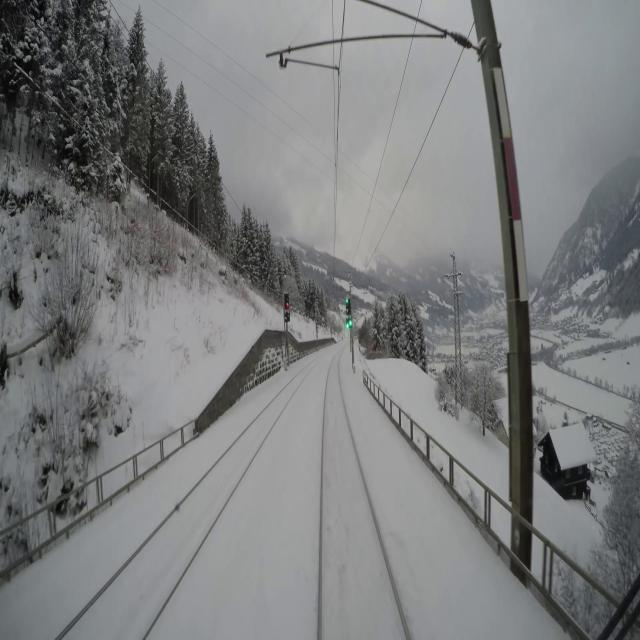rail-track: (61, 366, 310, 639), (323, 354, 405, 639)
